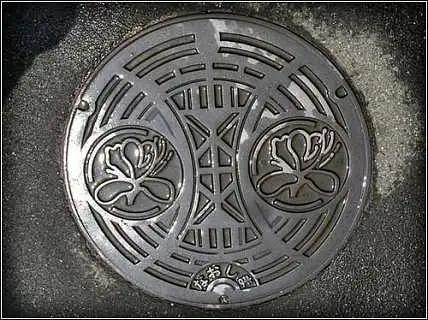wellcover: (52, 8, 390, 310)
